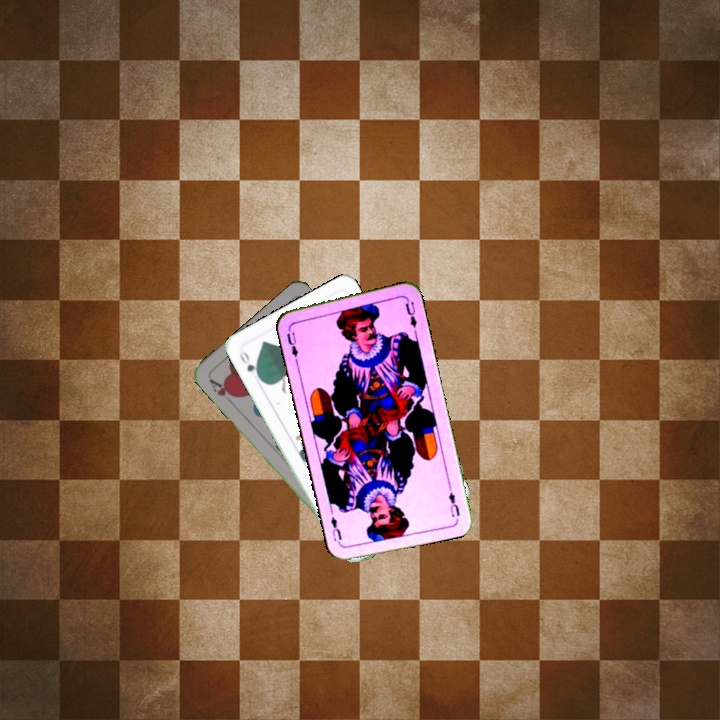EU: (283, 328, 301, 364), (444, 488, 462, 520)
GO: (235, 347, 263, 382)
HA: (205, 375, 238, 407)
